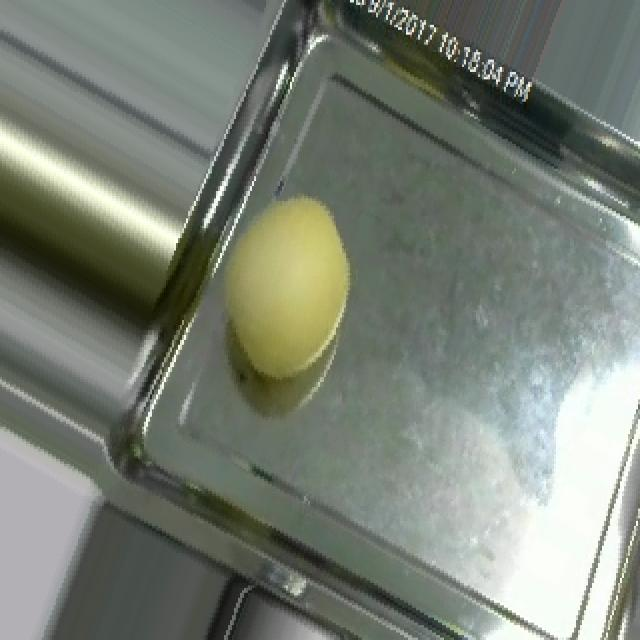Fruit: (186, 169, 380, 407)
